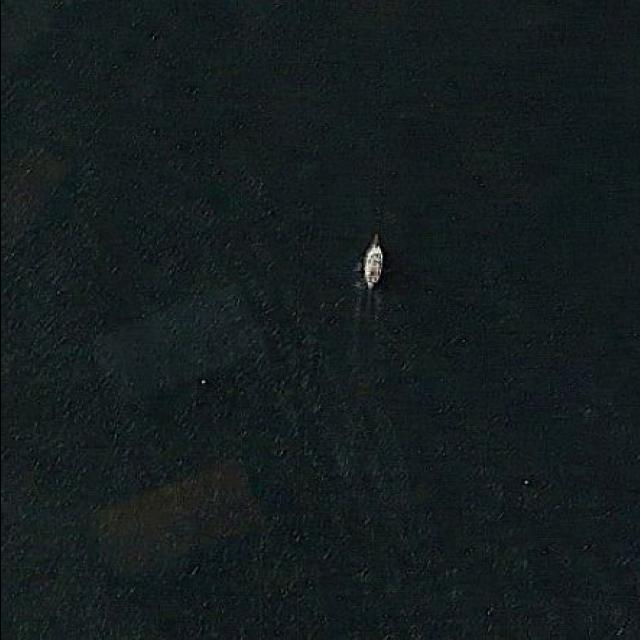ship: (358, 233, 390, 291)
